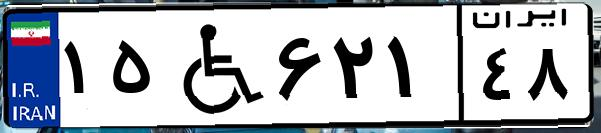1: (385, 28, 445, 110), (57, 26, 110, 100)
2: (330, 28, 385, 110)
4: (475, 38, 525, 113)
5: (110, 28, 158, 98)
6: (270, 28, 330, 110)
8: (525, 38, 570, 115)
ژ (معلولین و جانبازان): (158, 12, 270, 120)
